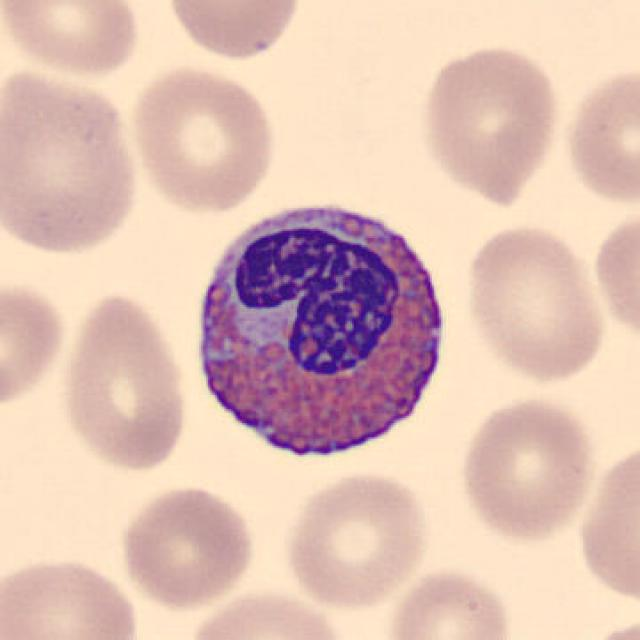Eosinophil: (183, 183, 461, 478)
RBC: (0, 63, 146, 261), (55, 287, 192, 476), (416, 39, 564, 208), (460, 221, 610, 386), (125, 60, 279, 217), (279, 467, 434, 610), (455, 393, 599, 545), (115, 481, 258, 612), (0, 550, 146, 640), (558, 62, 640, 210), (0, 0, 148, 81), (572, 434, 638, 610), (382, 564, 518, 640), (0, 273, 71, 416), (181, 585, 354, 640), (162, 0, 306, 63), (588, 205, 638, 348), (578, 613, 640, 640)
